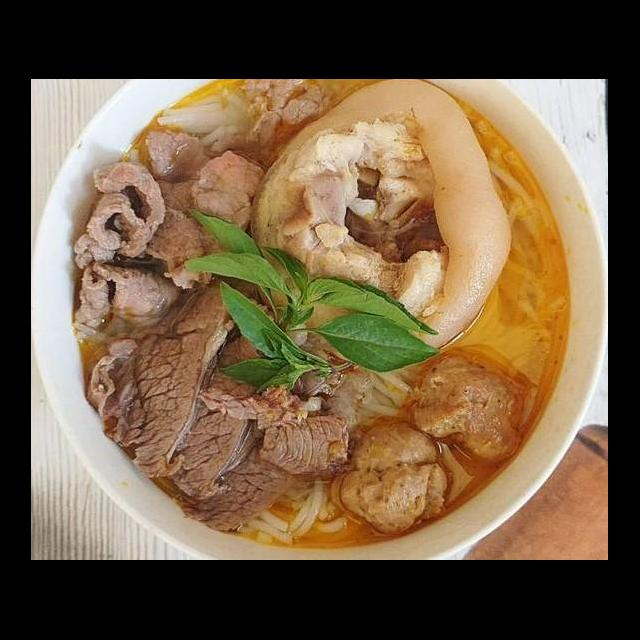bun: (240, 472, 352, 550), (150, 86, 266, 154), (344, 354, 432, 440)
bun bo: (53, 104, 608, 560)
thit bo: (85, 271, 252, 484), (160, 312, 306, 500), (112, 148, 272, 294), (190, 369, 358, 476), (168, 428, 314, 538), (80, 158, 172, 268), (68, 258, 188, 332), (140, 128, 217, 186)
